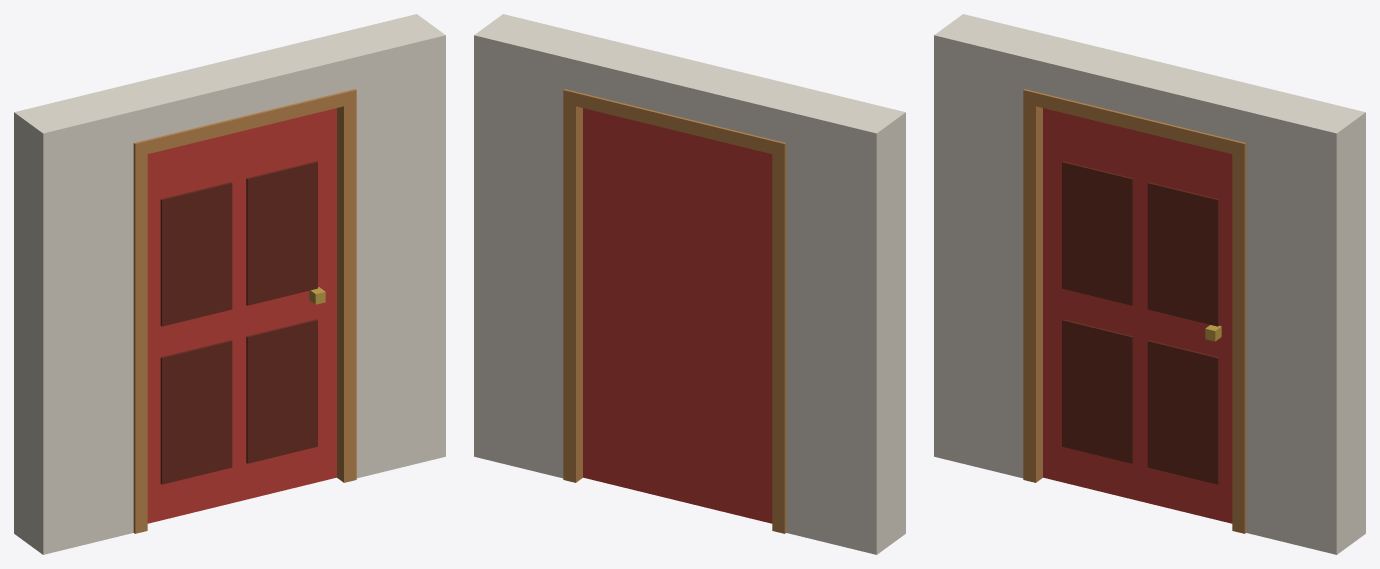
File: PRP_DoorInsert.fbx
3 views of the same model, side by side, from view 1: azimuth 30°, elevation 25°; view 2: azimuth 150°, elevation 25°; view 3: azimuth 330°, elevation 25° (orthographic).
Visible parts, largest first — view 1: PRP_DoorInsert; view 2: PRP_DoorInsert; view 3: PRP_DoorInsert.
Part boxes in pixels (x1=…): PRP_DoorInsert: x1=14, y1=14, x2=445, y2=554; PRP_DoorInsert: x1=474, y1=14, x2=905, y2=554; PRP_DoorInsert: x1=934, y1=14, x2=1365, y2=554.
Size of the model in its own units: 8 by 8 by 1.1.
